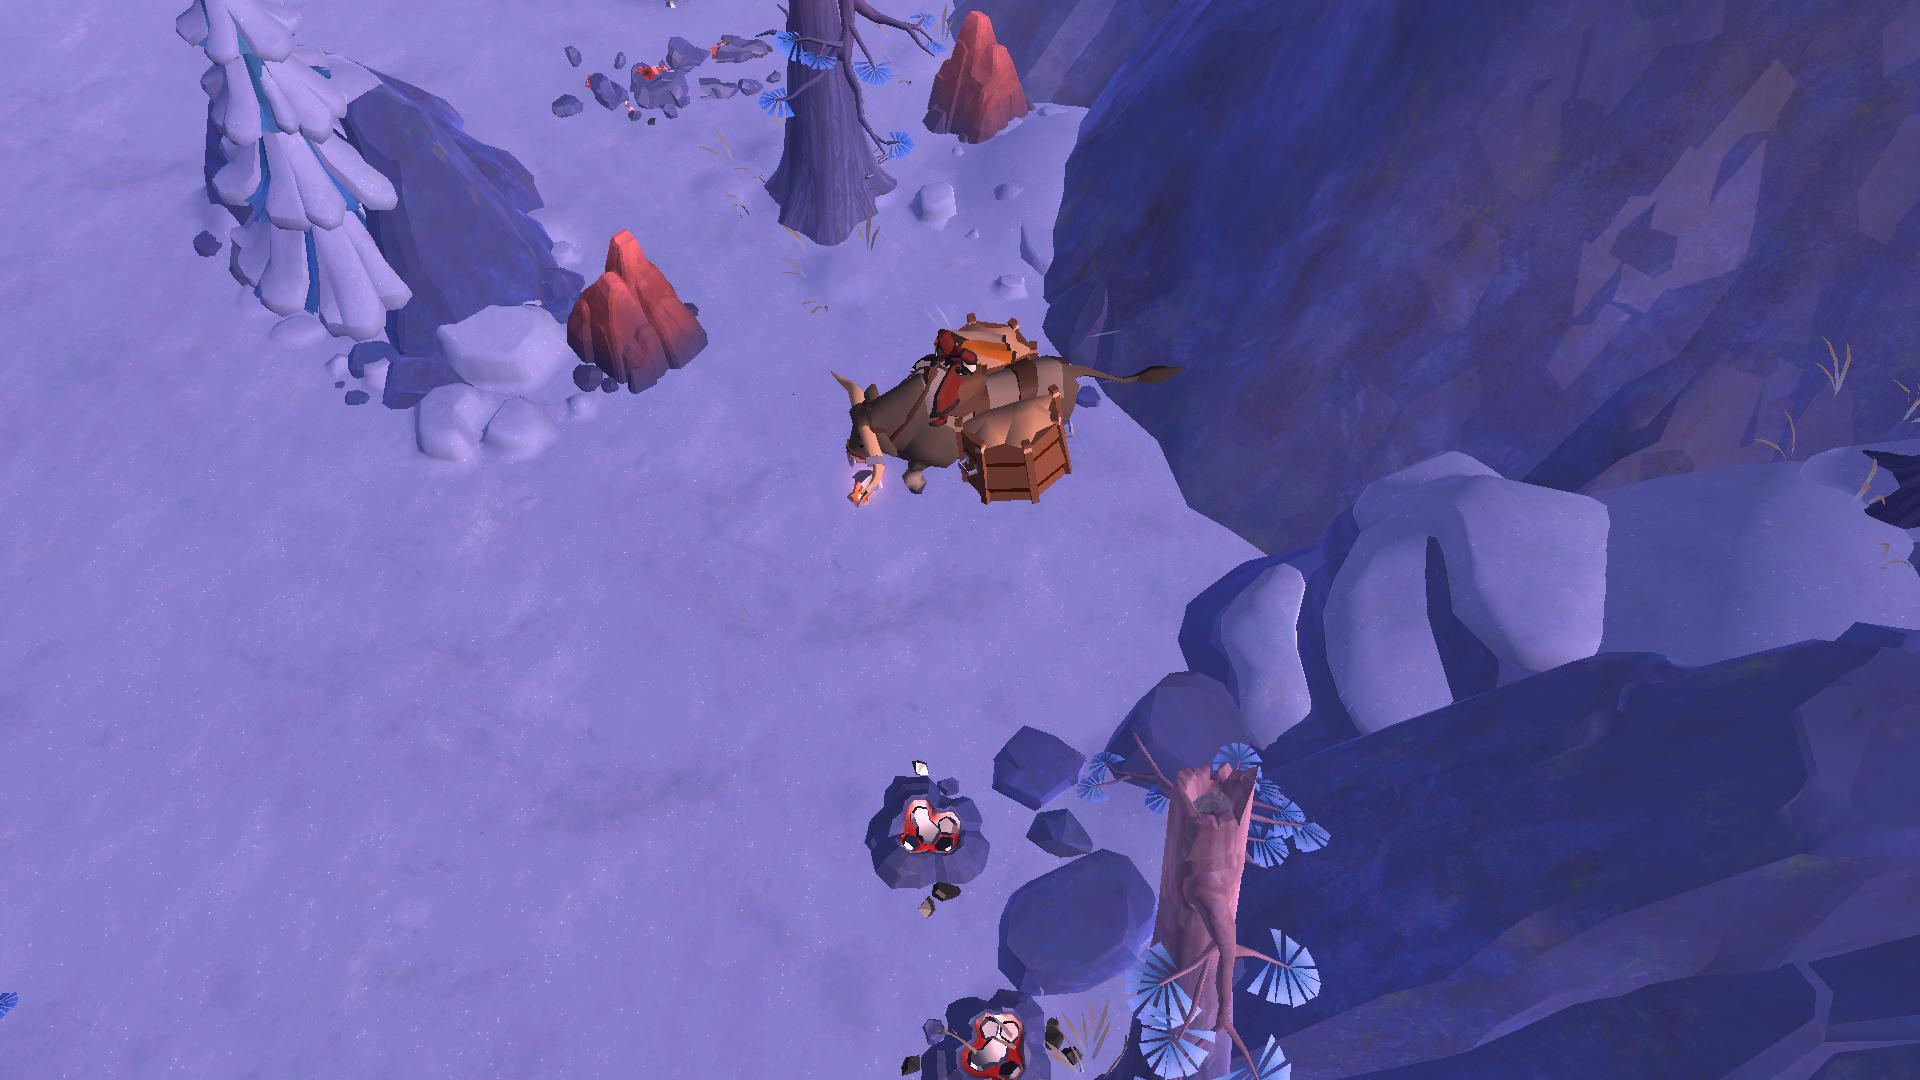rock_t5: (560, 228, 700, 389), (915, 13, 1035, 144)
